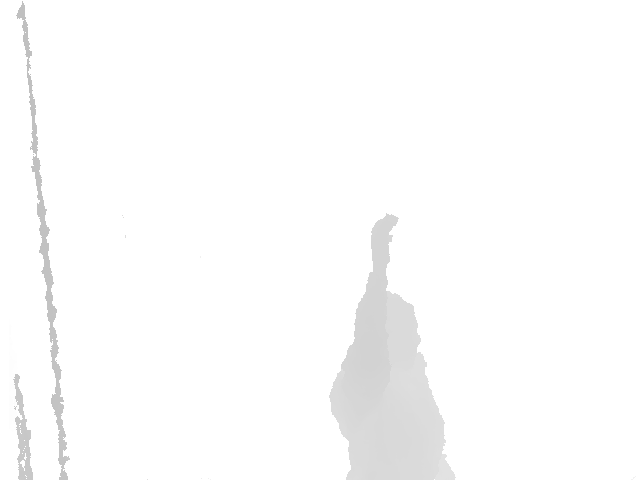hand: (370, 213, 399, 266)
head: (365, 292, 423, 353)
person: (328, 213, 457, 480)
